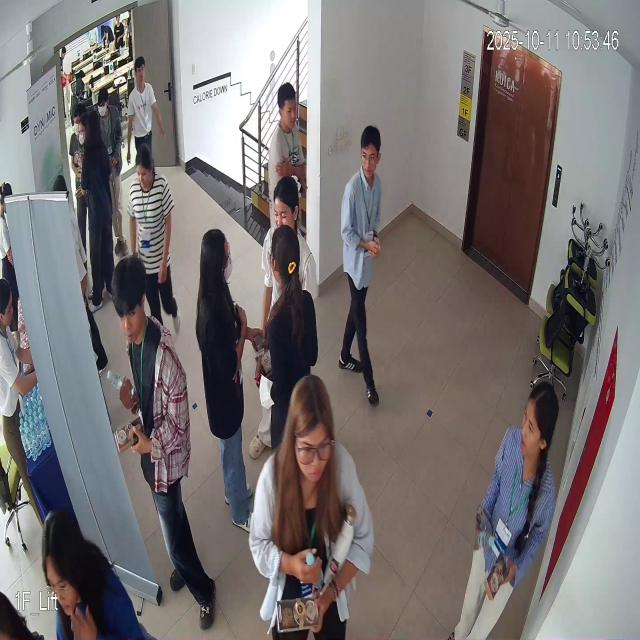face: (108, 248, 151, 351), (361, 114, 382, 187), (134, 146, 159, 196), (277, 80, 300, 132)
